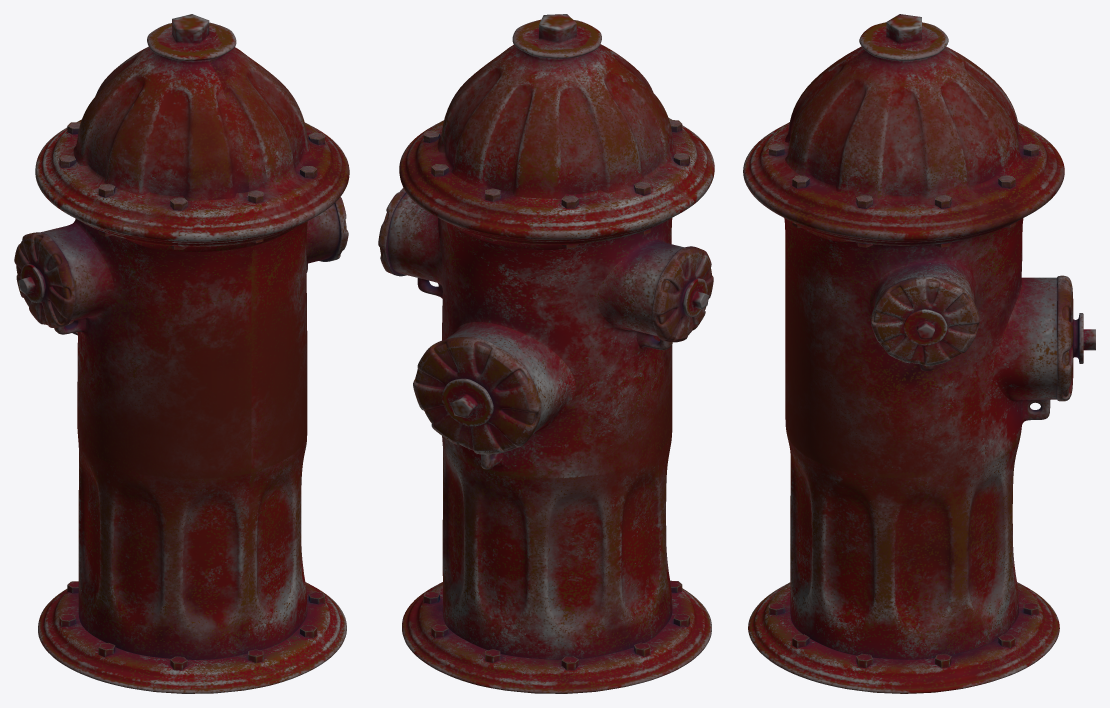
File: FireHydrant.fbx
3 views of the same model, side by side, from view 1: azimuth 30°, elevation 25°; view 2: azimuth 150°, elevation 25°; view 3: azimuth 270°, elevation 25° (orthographic).
Visible parts, largest first — view 1: FireHydrant, FireHydrantBOLTS; view 2: FireHydrant, FireHydrantBOLTS; view 3: FireHydrant, FireHydrantBOLTS.
Part boxes in pixels (x1,y1,x2,y2): FireHydrant: (14, 14, 349, 693); FireHydrantBOLTS: (59, 122, 324, 670); FireHydrant: (378, 14, 714, 693); FireHydrantBOLTS: (423, 120, 689, 670); FireHydrant: (743, 14, 1095, 693); FireHydrantBOLTS: (769, 143, 1038, 668).
Bounding box in the file's own units: 190 × 350 × 183.
1 material, 1 textured.
